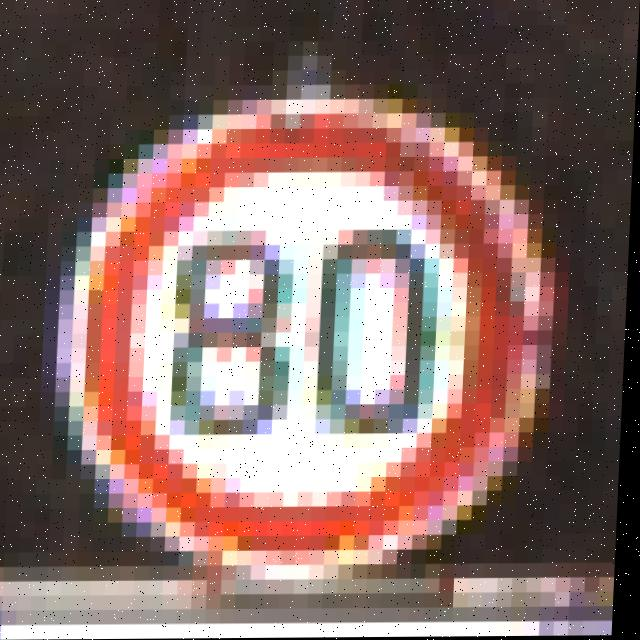speed_limit_80: (34, 102, 563, 576)
